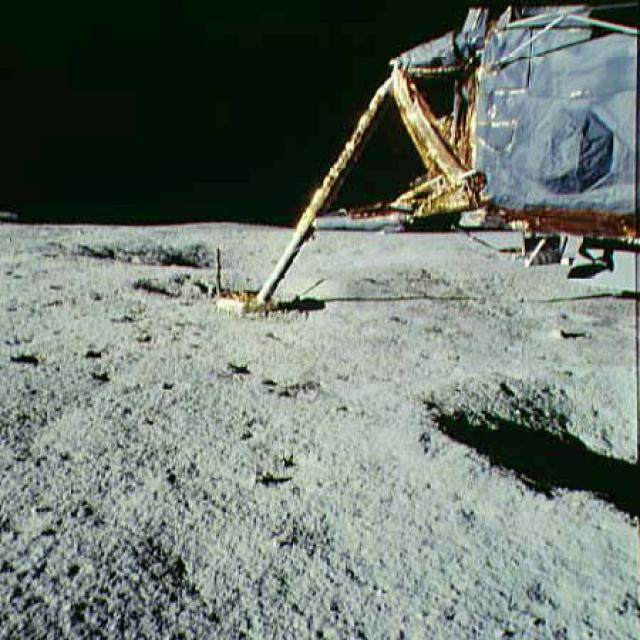crater: (408, 348, 639, 540), (127, 259, 342, 327), (70, 225, 298, 270)
